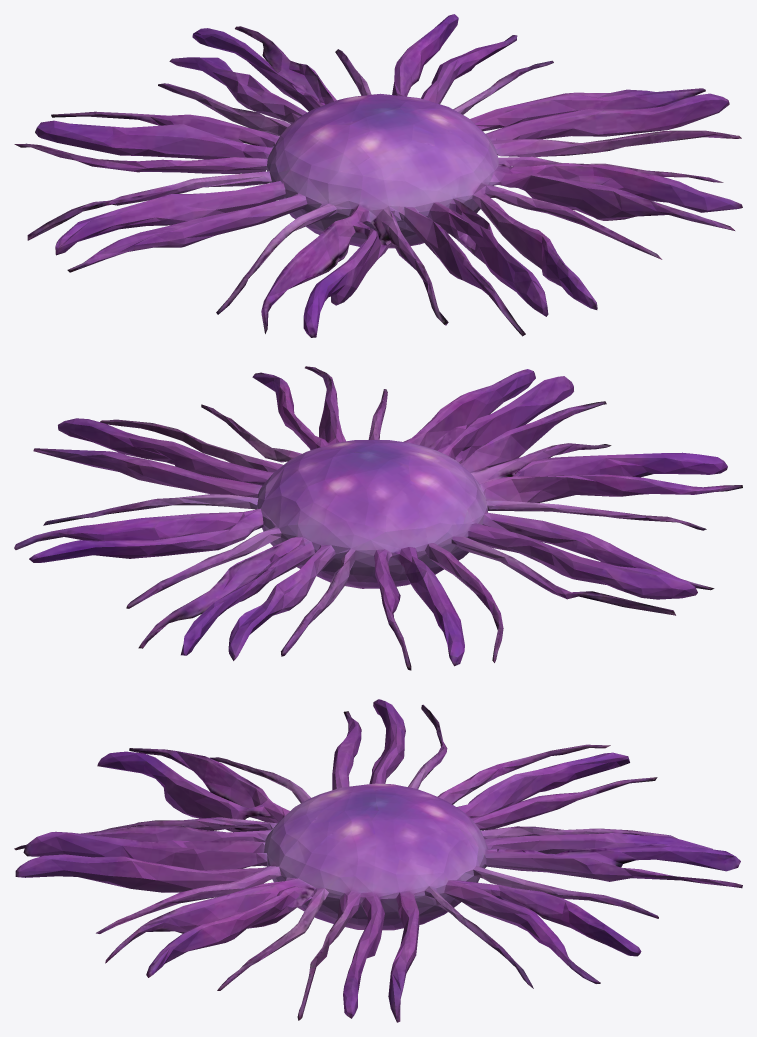
The model's file is jelly.glb.
3 views of the same model, one above another, from view 1: azimuth 30°, elevation 25°; view 2: azimuth 150°, elevation 25°; view 3: azimuth 270°, elevation 25° (orthographic). The views are drawn at different scales.
Visible parts, largest first — view 1: geometry_0; view 2: geometry_0; view 3: geometry_0.
Boxes of the visible parts, bbox=[...] form: geometry_0: bbox=[14, 14, 742, 337]; geometry_0: bbox=[14, 366, 742, 670]; geometry_0: bbox=[14, 699, 742, 1022].
Size of the model in its own units: 0.9985 by 0.1739 by 0.9902.
1 material, 1 textured.
